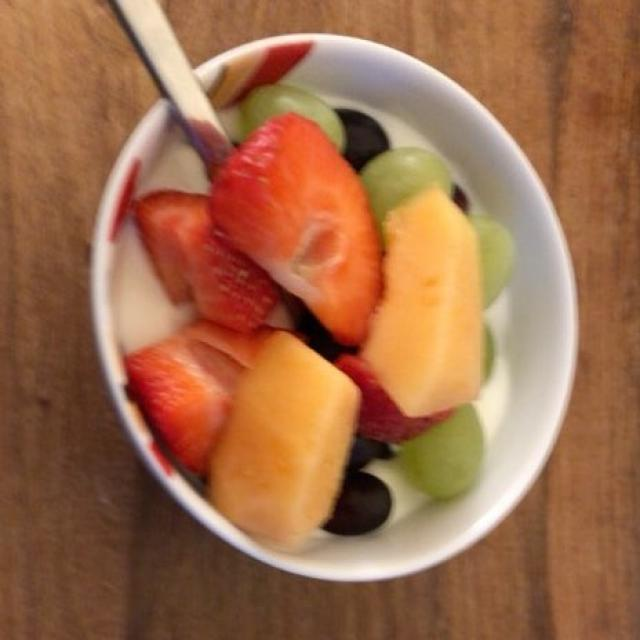fruit-salad: (129, 103, 492, 539)
yogurt: (117, 232, 186, 349)
